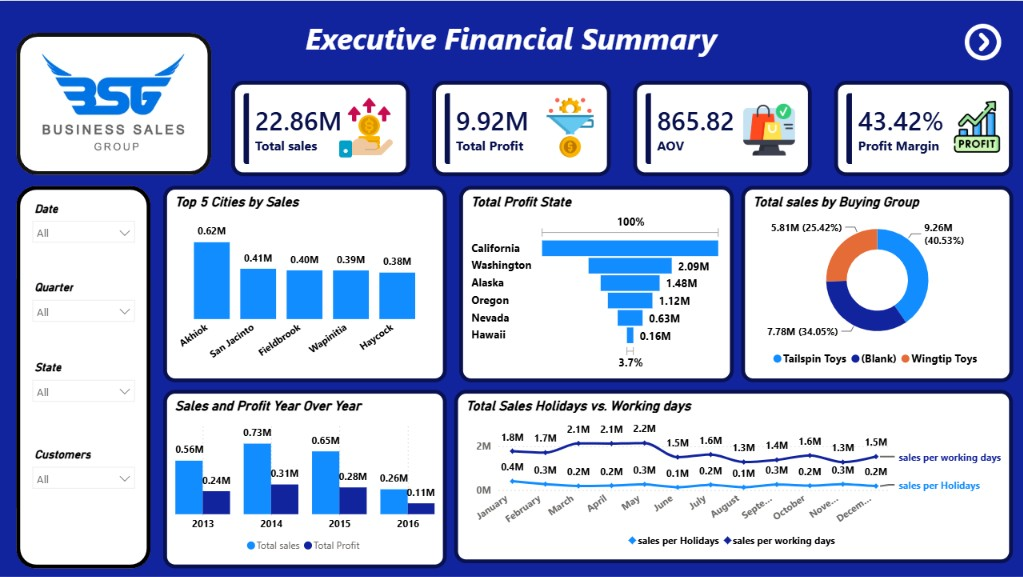

This screenshot's page, from the dashboard's own definition file:
{"tool":"powerbi","page":{"name":"Executive Financial Summary","canvas":[1280,720],"ordinal":0},"visuals":[{"type":"cardVisual","fields":{"Data":["Measure.Total sales included tax"]},"box":[289.6,99.4,223.3,119],"z":0},{"type":"cardVisual","fields":{"Data":["Measure.AOV"]},"box":[792.6,99.4,223.3,119],"z":1000},{"type":"shape","box":[20.9,230.7,168.1,478.5],"z":1000,"group":"g1"},{"type":"cardVisual","title":"Profit Margin","fields":{"Data":["Measure.Profit Margin"]},"box":[1044.2,99.4,223.3,119],"z":2000},{"type":"donutChart","title":"Total sales by Buying Group","fields":{"Category":["DimCustomer.Buying Group"],"Y":["Measure.Total sales included tax"]},"box":[927.6,230.7,339.9,245.4],"z":3000},{"type":"slicer","fields":{"Values":["DimDate.Date.Variation.Date Hierarchy.Year"]},"box":[30.7,245.4,148.5,83.4],"z":3000,"group":"g1"},{"type":"columnChart","title":"Top 5 Cities by Sales","fields":{"Category":["DimCity.City"],"Y":["Measure.Total sales included tax"]},"box":[204.9,230.7,354.6,245.4],"z":4000},{"type":"slicer","fields":{"Values":["DimDate.Quarter"]},"box":[30.7,344.8,148.5,83.4],"z":4000,"group":"g1"},{"type":"lineChart","title":"Total Sales Holidays vs. Working days","fields":{"Category":["DimDate.Date.Variation.Date Hierarchy.Month"],"Y":["Measure.sales per Holidays","Measure.sales per working days"]},"box":[569.3,485.9,698.2,217.2],"z":5000},{"type":"funnel","title":"Total Profit State","fields":{"Category":["DimCity.State Province"],"Y":["Sum(FactSale.Profit)"]},"box":[575.5,230.7,343.6,245.4],"z":6000},{"type":"slicer","fields":{"Values":["DimCity.State Province"]},"box":[30.7,444.2,148.5,83.4],"z":6000,"group":"g1"},{"type":"cardVisual","fields":{"Data":["Measure.Total Profit"]},"box":[541.1,99.4,223.3,119],"z":7000},{"type":"shape","box":[20.9,40.5,244.2,177.9],"z":8000},{"type":"textbox","box":[361.4,15.7,557.1,70],"z":9000},{"type":"image","box":[1192.6,28.2,74.8,45.4],"z":10000},{"type":"image","box":[34.4,50,208.9,156.7],"z":11000},{"type":"clusteredColumnChart","title":"Sales and Profit Year Over Year","fields":{"Category":["DimDate.Date.Variation.Date Hierarchy.Year"],"Y":["Measure.Total sales included tax","Measure.Total Profit"]},"box":[204.9,485.9,354.6,223.3],"z":12000},{"type":"group","id":"g1","title":"Group 1","box":[20.9,230.7,168.1,478.5],"z":13000},{"type":"slicer","fields":{"Values":["DimCustomer.Customer"]},"box":[30.7,553.4,148.5,83.4],"z":15002,"group":"g1"}]}

Visuals, with their boxes in screenshot pixels (x1, y1, x2, y2), scaled from the page's 1280x720 canvas onto the 1023x577 screenshot:
cardVisual - Measure.Total sales included tax: 231 80 410 175
cardVisual - Measure.AOV: 633 80 812 175
shape: 17 185 151 568
"Profit Margin" cardVisual: 835 80 1013 175
"Total sales by Buying Group" donutChart: 741 185 1013 382
slicer - DimDate.Date.Variation.Date Hierarchy.Year: 25 197 143 263
"Top 5 Cities by Sales" columnChart: 164 185 447 382
slicer - DimDate.Quarter: 25 276 143 343
"Total Sales Holidays vs. Working days" lineChart: 455 389 1013 563
"Total Profit State" funnel: 460 185 735 382
slicer - DimCity.State Province: 25 356 143 423
cardVisual - Measure.Total Profit: 432 80 611 175
shape: 17 32 212 175
textbox: 289 13 734 69
image: 953 23 1013 59
image: 27 40 194 166
"Sales and Profit Year Over Year" clusteredColumnChart: 164 389 447 568
"Group 1" group: 17 185 151 568
slicer - DimCustomer.Customer: 25 443 143 510
